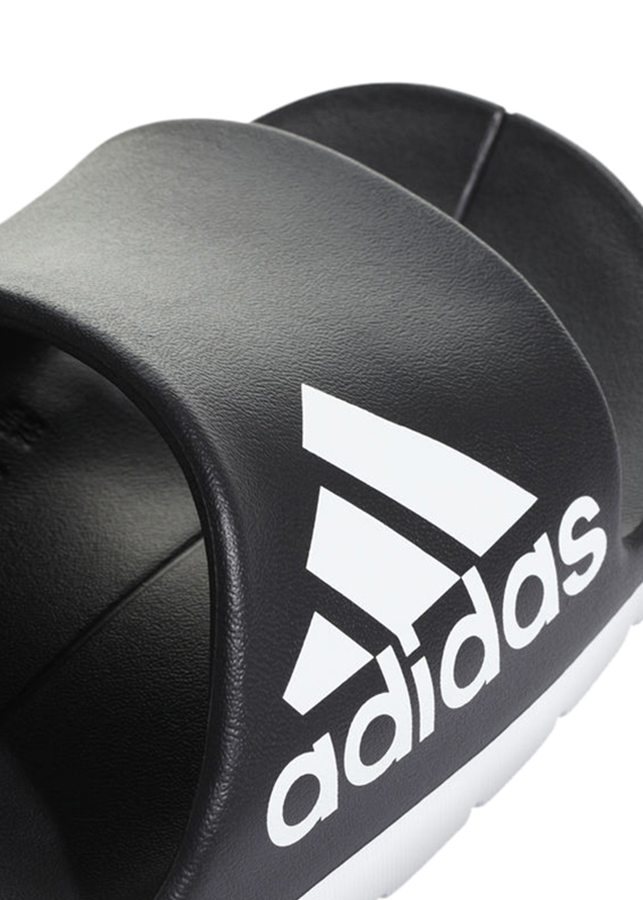Adidas: (262, 371, 610, 861)
